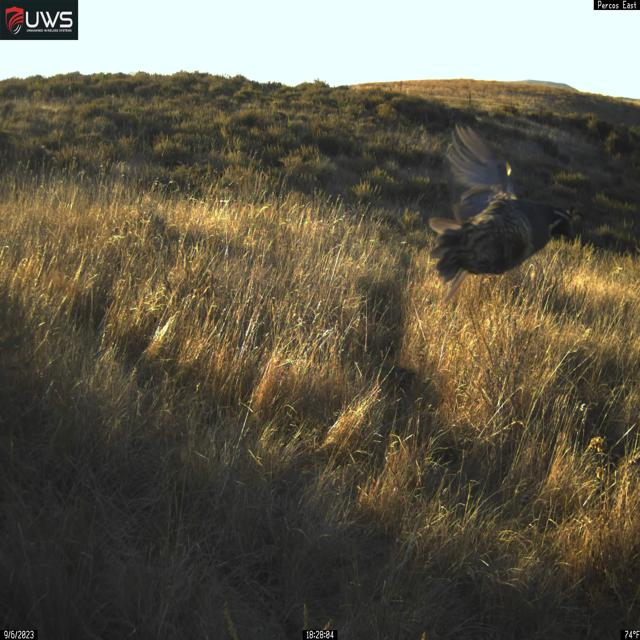bird: (428, 121, 576, 308)
